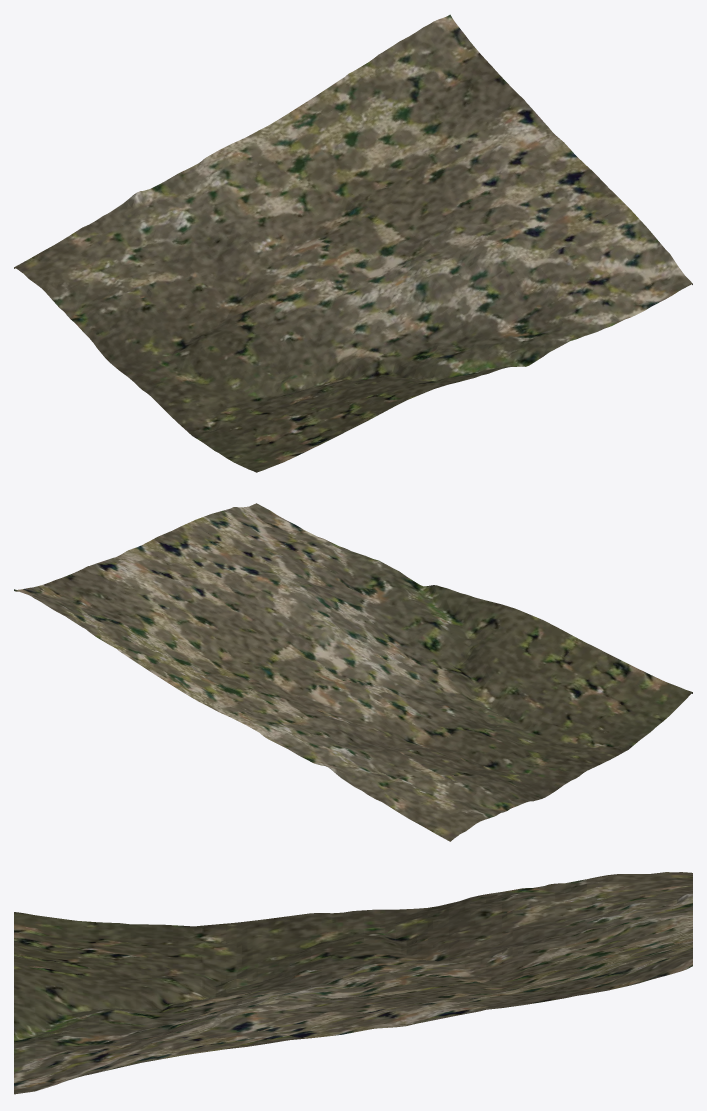
The picture shows the model from 3 angles, top to bottom: view 1: azimuth 30°, elevation 25°; view 2: azimuth 150°, elevation 25°; view 3: azimuth 270°, elevation 25°; orthographic projection. The views are drawn at different scales.
Size of the model in its own units: 250 by 102 by 241.
1 material, 1 textured.
